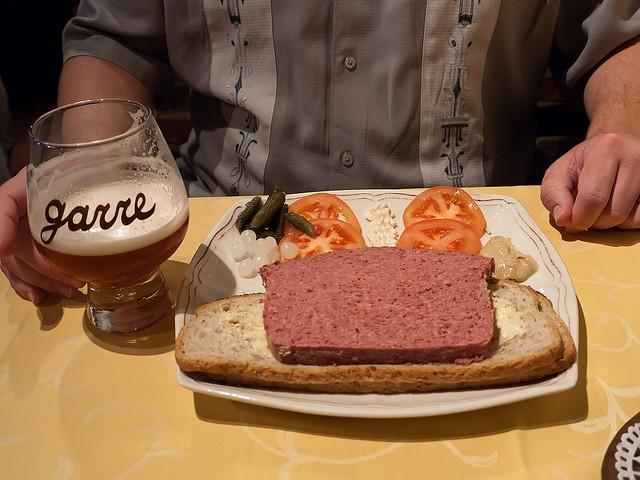tomato: (402, 186, 486, 237), (278, 218, 366, 264), (285, 192, 361, 234), (398, 219, 482, 255)
